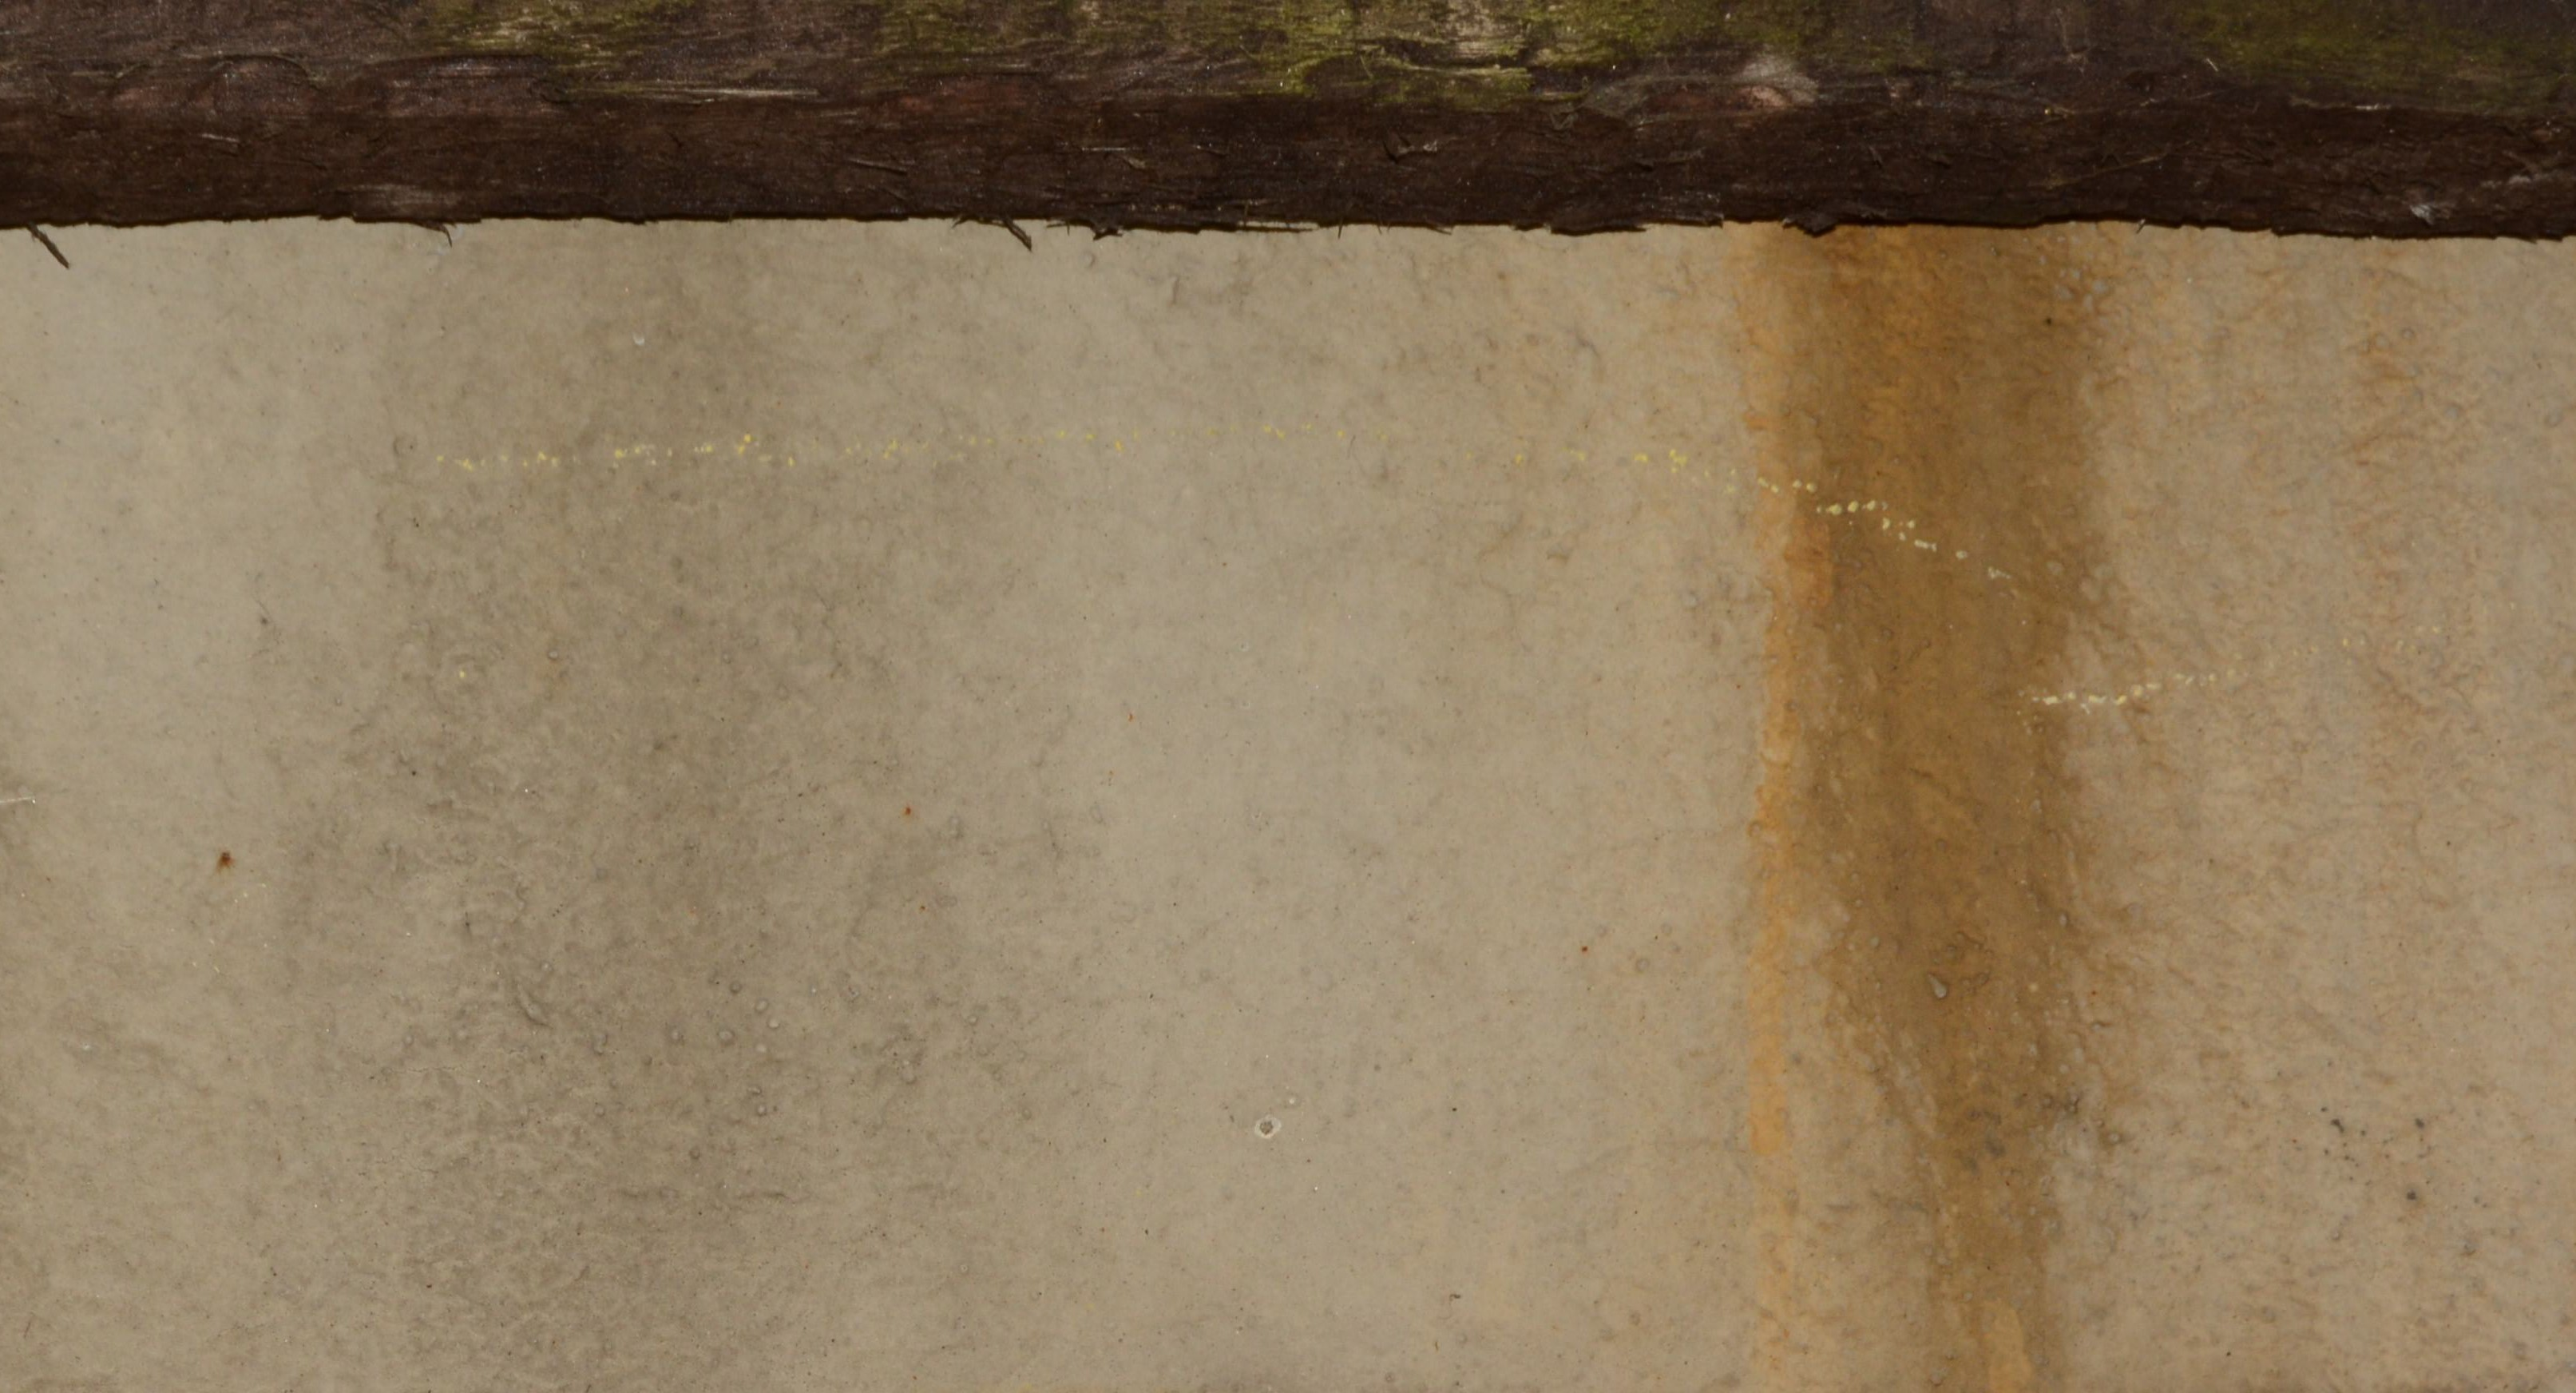Corrosion: (1730, 220, 2146, 1393)
